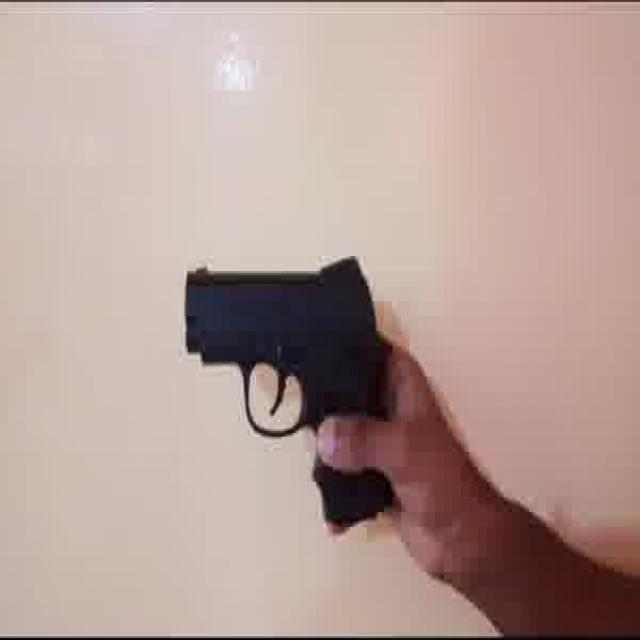weapon: (184, 254, 406, 534)
